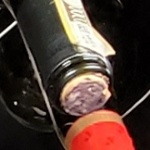bottle: (33, 41, 127, 130)
